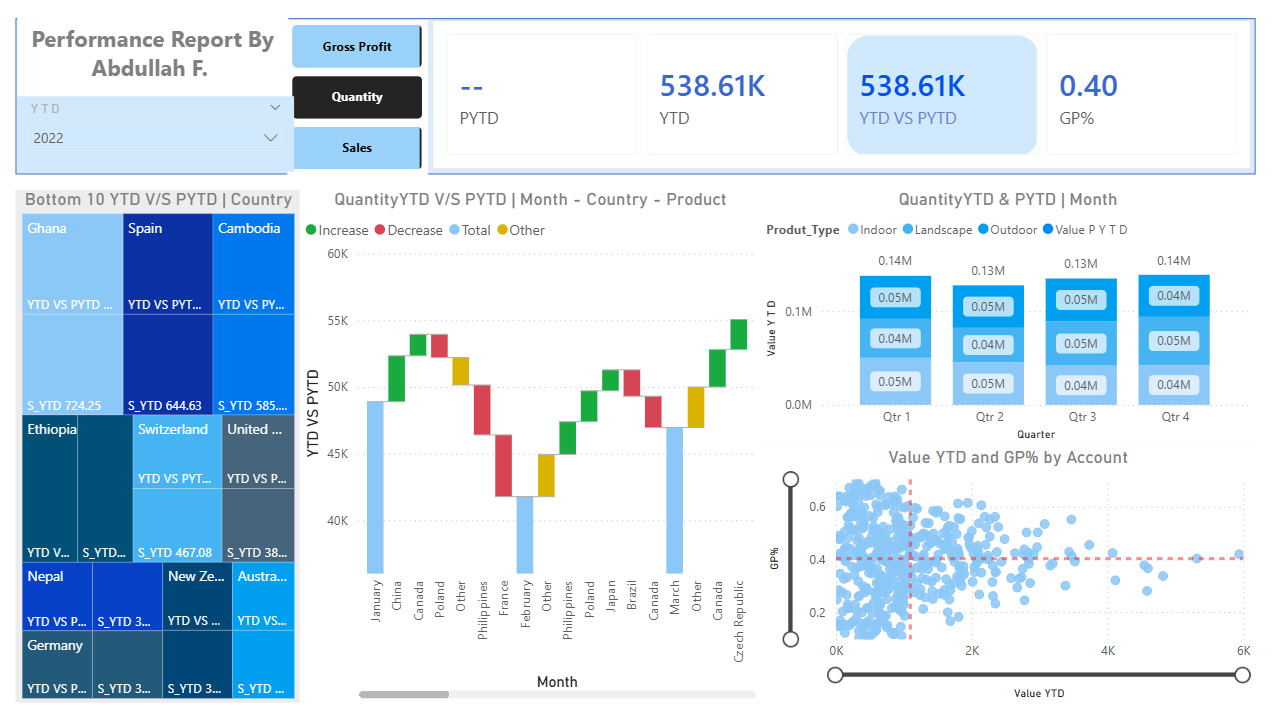

The dashboard page shown, as its layout file describes it:
{"tool":"powerbi","page":{"name":"Page 1","canvas":[1280,720],"ordinal":0},"visuals":[{"type":"cardVisual","fields":{"Data":["_Measures.S_PYTD","_Measures.S_YTD","_Measures.YTD VS PYTD","_Measures.GP%"]},"box":[441.4,25.7,798.6,151.4],"z":0},{"type":"advancedSlicerVisual","fields":{"Values":["Slicer_values.Values"]},"box":[305.7,28.6,135.7,150],"z":1000},{"type":"slicer","fields":{"Values":["Dim_Date.Date.Variation.Date Hierarchy.Year"]},"box":[44.3,102.9,267.1,72.9],"z":2000},{"type":"treemap","title":"Bottom 10 YTD V/S PYTD | Country","fields":{"Values":["_Measures.YTD VS PYTD","_Measures.S_YTD"],"Group":["Dim_Accounts.country"]},"box":[44.3,191.4,272.9,497.1],"z":3000},{"type":"waterfallChart","fields":{"Y":["_Measures.YTD VS PYTD"],"Category":["Dim_Date.Date.Variation.Date Hierarchy.Month"],"Breakdown":["Dim_Accounts.country"]},"box":[317.1,191.4,445.7,497.1],"z":4000},{"type":"lineStackedColumnComboChart","fields":{"Y":["_Measures.S_YTD"],"Y2":["_Measures.S_PYTD"],"Category":["Dim_Date.Date.Variation.Date Hierarchy.Quarter","Dim_Date.Date.Variation.Date Hierarchy.Month"],"Series":["Dim_Product.Produt_Type"]},"box":[762.9,191.4,477.1,248.6],"z":5000},{"type":"scatterChart","fields":{"Y":["_Measures.GP%"],"X":["_Measures.S_YTD"],"Category":["Dim_Accounts.Account"]},"box":[762.9,440,477.1,248.6],"z":5001},{"type":"textbox","box":[44.3,27.1,261.4,75.7],"z":5002}]}

Visuals, with their boxes in screenshot pixels (x1, y1, x2, y2), scaled from the page's 1280x720 canvas onto the 1282x722 screenshot:
cardVisual - _Measures.S_PYTD x _Measures.S_YTD: (x1=442, y1=26, x2=1242, y2=178)
advancedSlicerVisual - Slicer_values.Values: (x1=306, y1=29, x2=442, y2=179)
slicer - Dim_Date.Date.Variation.Date Hierarchy.Year: (x1=44, y1=103, x2=312, y2=176)
"Bottom 10 YTD V/S PYTD | Country" treemap: (x1=44, y1=192, x2=318, y2=690)
waterfallChart - _Measures.YTD VS PYTD x Dim_Date.Date.Variation.Date Hierarchy.Month: (x1=318, y1=192, x2=764, y2=690)
lineStackedColumnComboChart - _Measures.S_YTD x _Measures.S_PYTD: (x1=764, y1=192, x2=1242, y2=441)
scatterChart - _Measures.GP% x _Measures.S_YTD: (x1=764, y1=441, x2=1242, y2=691)
textbox: (x1=44, y1=27, x2=306, y2=103)
